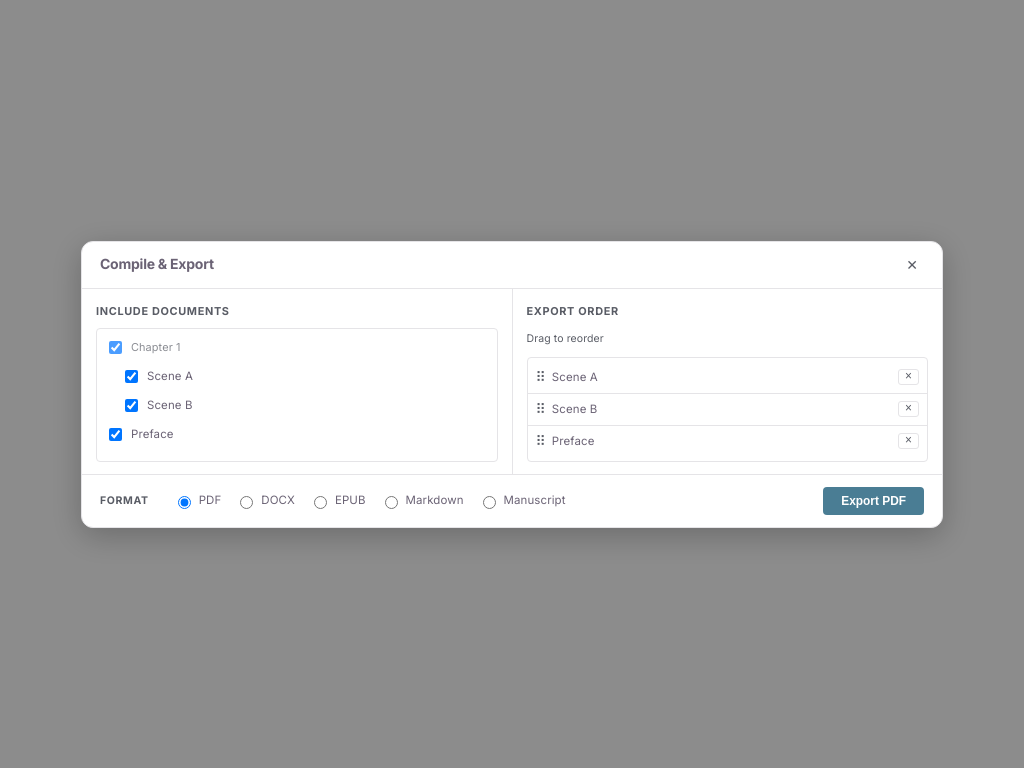
Test: CompileModal — toggleGroup › checking the group checkbox when all are unchecked adds all folder scenes
This screenshot has width=1024, height=768.
Uncheck both folder scenes
Click the checkbox labelled "Scene A" at (132, 376), box [125,370,138,382]
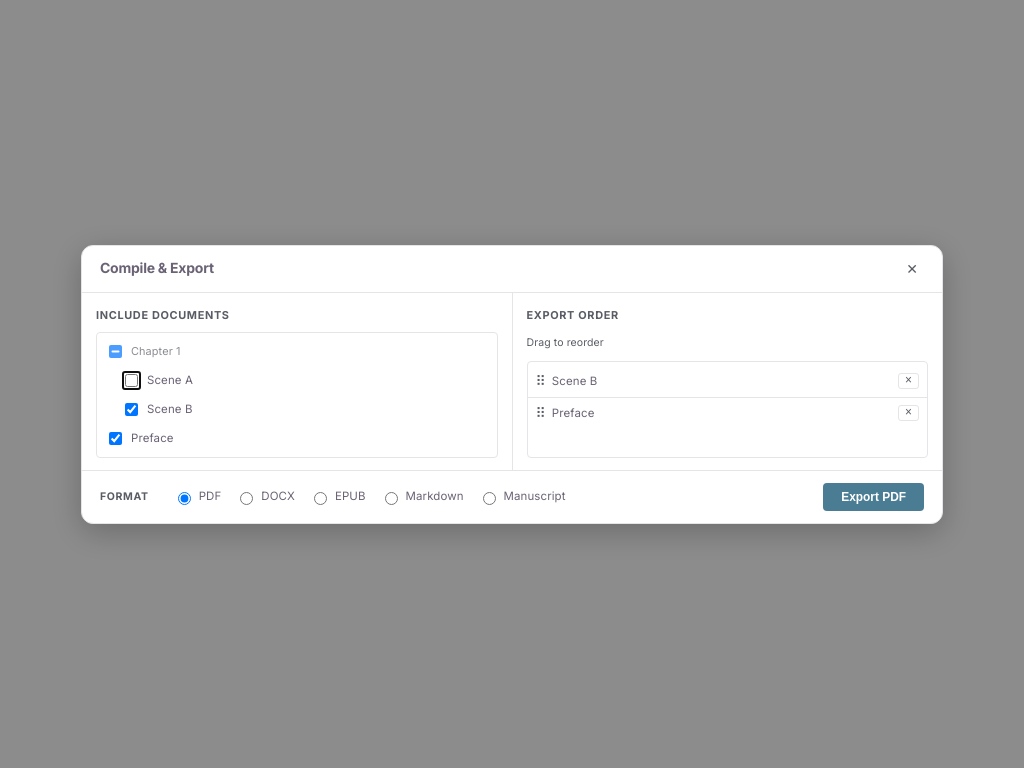
Click the checkbox labelled "Scene B" at (132, 409), box [125,402,138,416]
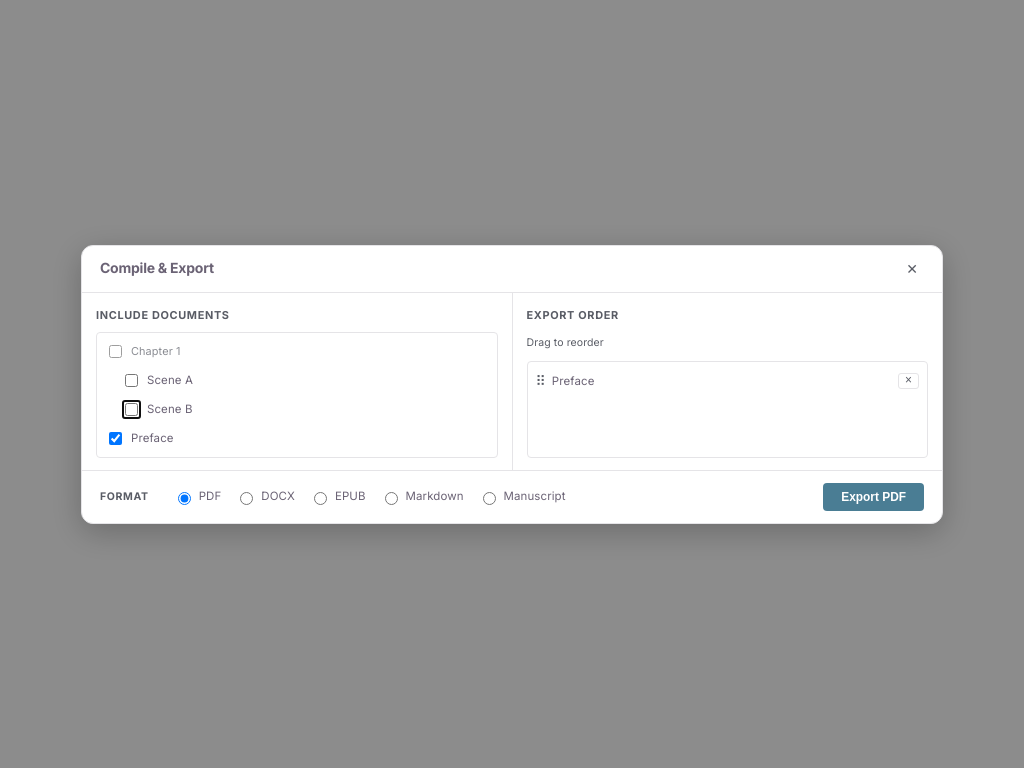
Click the folder group checkbox to re-add them
Click the checkbox labelled "Chapter 1" at (116, 351), box [109,344,122,358]
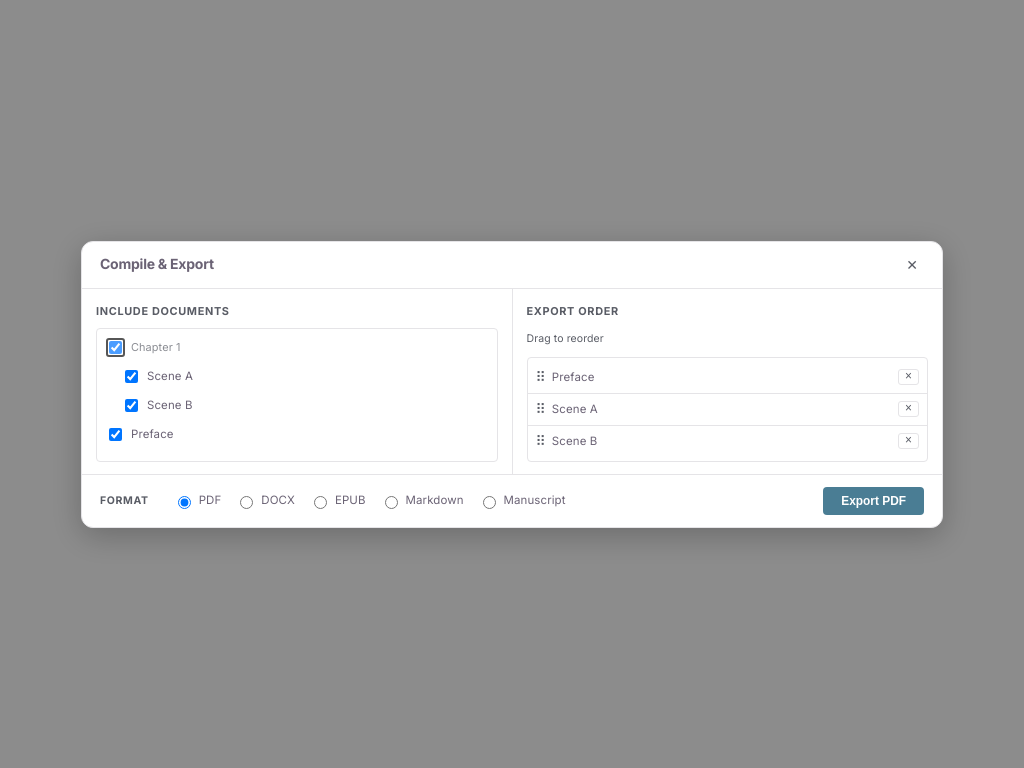
Check: the button named "Remove Scene A from export" is shown, box [898,401,919,417]
Check: the button named "Remove Scene B from export" is shown, box [898,433,919,449]
